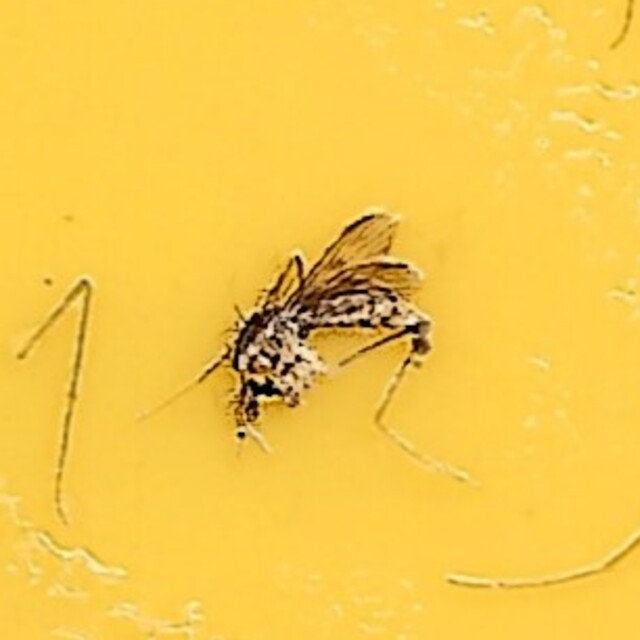Nematocera: (209, 210, 431, 430)
